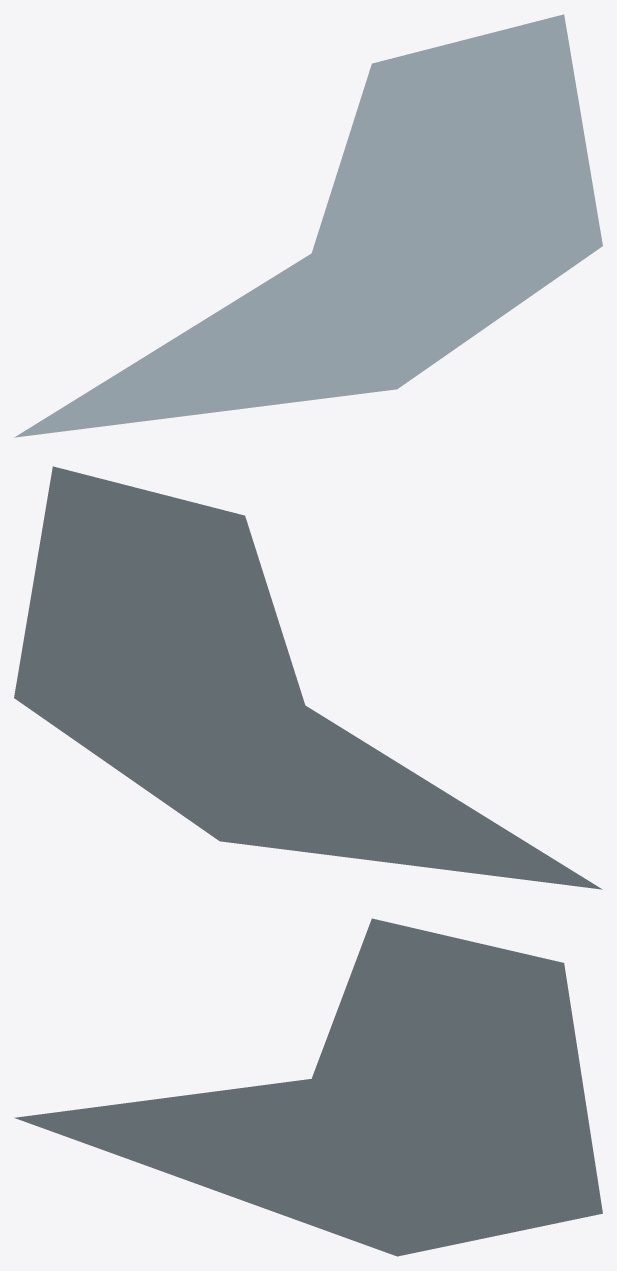
The picture shows the model from 3 angles, top to bottom: view 1: azimuth 30°, elevation 25°; view 2: azimuth 150°, elevation 25°; view 3: azimuth 330°, elevation 25°; orthographic projection.
Parts seen in each view (by area): view 1: pCube51; view 2: pCube51; view 3: pCube51.
Part boxes in pixels (x1,y1,x2,y2): pCube51: [14, 14, 602, 437]; pCube51: [14, 466, 602, 889]; pCube51: [14, 918, 602, 1256].
Size of the model in its own units: 52.75 by 28.61 by 0.
